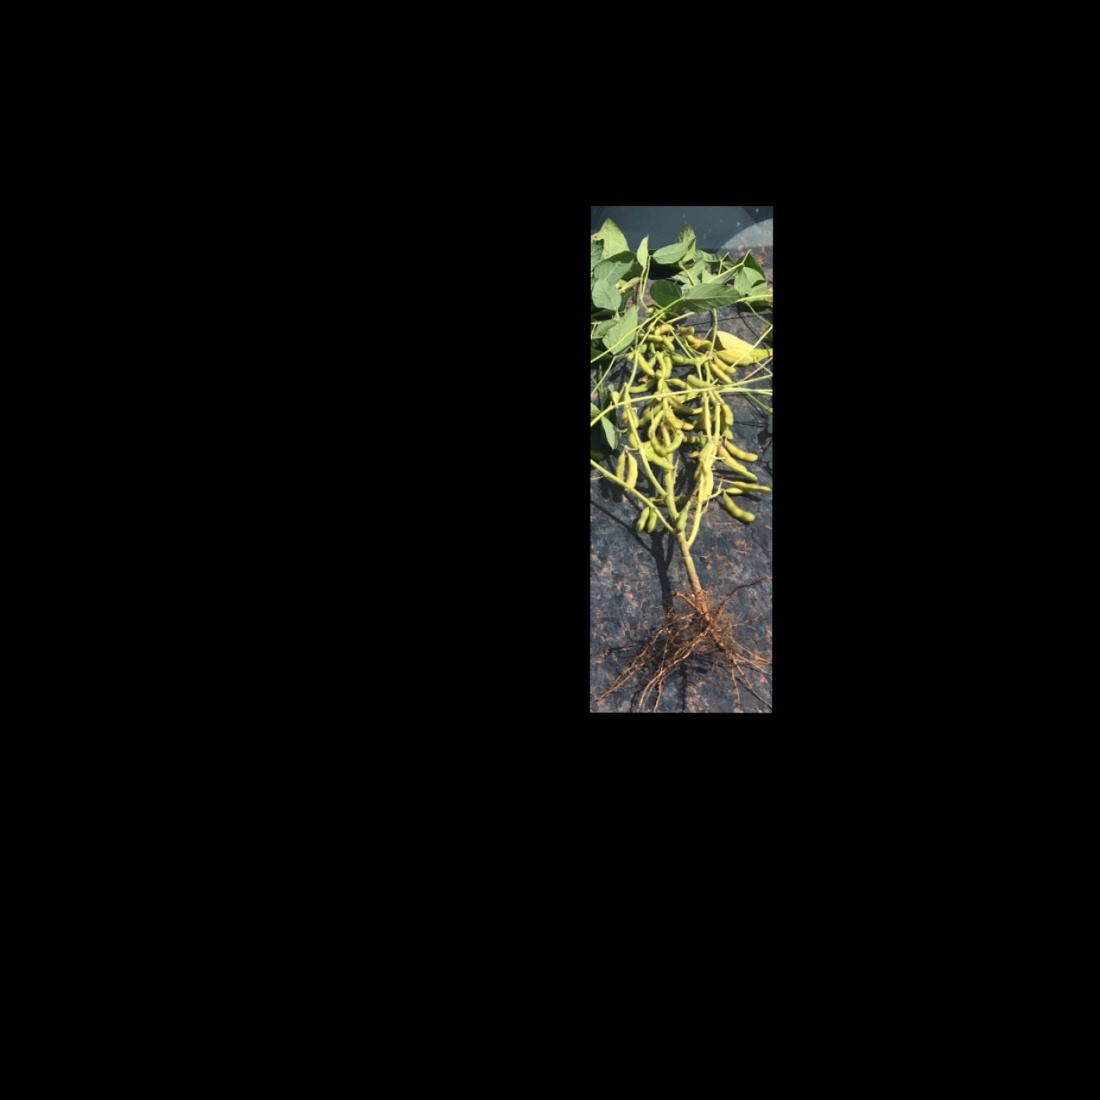pod: (716, 447, 758, 482), (719, 490, 757, 525), (638, 441, 675, 472), (722, 438, 760, 464), (721, 477, 772, 493), (623, 377, 660, 397), (633, 349, 656, 381), (705, 361, 732, 384), (633, 503, 650, 535), (711, 354, 736, 375), (611, 449, 625, 483), (648, 435, 666, 458), (674, 507, 689, 532), (646, 505, 658, 535)
soy: (591, 227, 769, 705)
